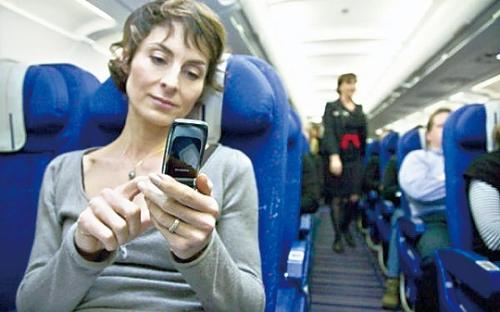phone: (157, 119, 208, 204)
